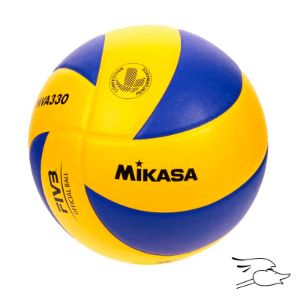voleibol: (29, 24, 268, 264)
